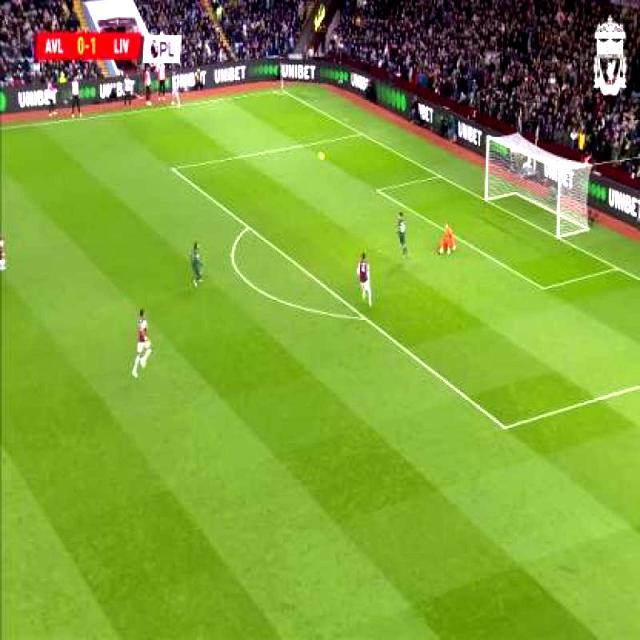bigarea_bottom_inner: (498, 418, 512, 438)
bigarea_top_inner: (168, 161, 177, 176)
bigarea_top_outter: (357, 129, 365, 139)
bottom_arc_area_intersection: (359, 310, 371, 325)
corner: (274, 88, 288, 96)
smallarea_bottom_inner: (538, 281, 548, 296)
smallarea_bottom_outter: (612, 263, 623, 274)
smallarea_top_inner: (374, 183, 383, 197)
smallarea_top_outter: (434, 172, 444, 182)
top_arc_area_intersection: (243, 221, 252, 234)
